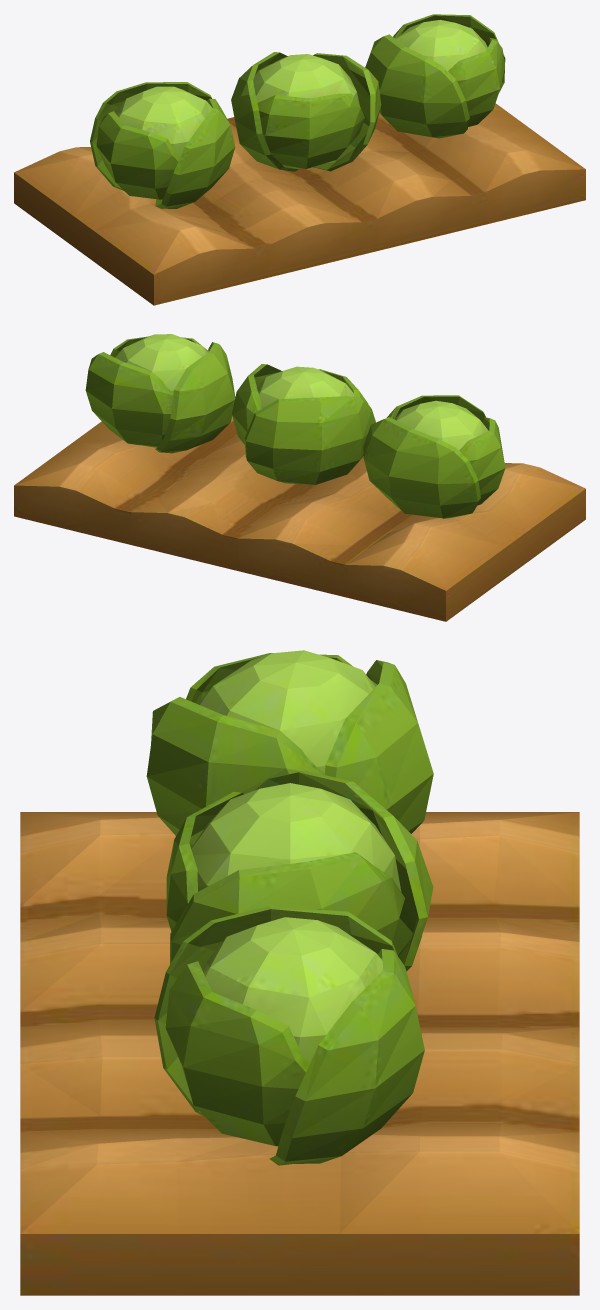
File: planter_cabbage.glb
The picture shows the model from 3 angles, top to bottom: view 1: azimuth 30°, elevation 25°; view 2: azimuth 150°, elevation 25°; view 3: azimuth 270°, elevation 25°; orthographic projection. The views are drawn at different scales.
Visible parts, largest first — view 1: planter_cabbage; view 2: planter_cabbage; view 3: planter_cabbage.
Boxes of the visible parts, x1,y1,x2,y2 form: planter_cabbage: (14, 14, 585, 305); planter_cabbage: (14, 334, 585, 621); planter_cabbage: (20, 650, 579, 1295).
Size of the model in its own units: 0.91 by 0.2901 by 0.51.
Materials: 1 (1 with a texture image).
